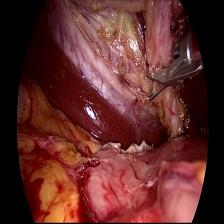Clipper: (142, 30, 204, 85)
